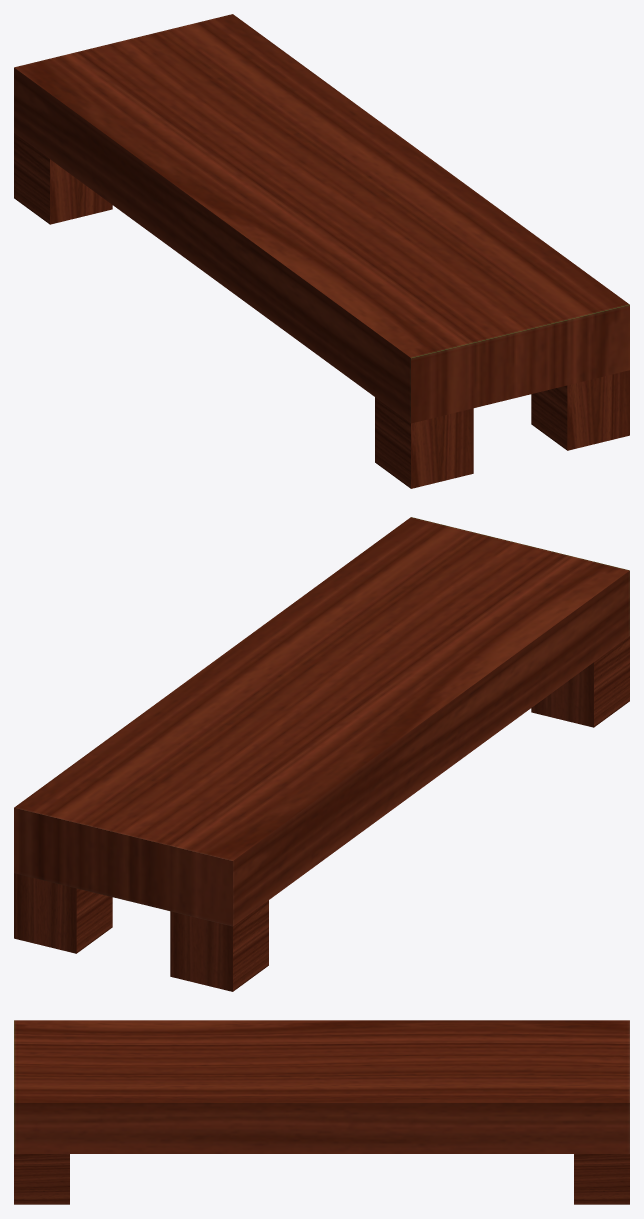
Rendered from tv-table.glb.
3 views of the same model, one above another, from view 1: azimuth 30°, elevation 25°; view 2: azimuth 150°, elevation 25°; view 3: azimuth 270°, elevation 25° (orthographic). The views are drawn at different scales.
Visible parts, largest first — view 1: Tabletop_Small_lambert3_0, Tabletop_Leg_Thick1_lambert3_0, Tabletop_Leg_Thick_lambert3_0, Tabletop_Leg_Thick2_lambert3_0; view 2: Tabletop_Small_lambert3_0, Tabletop_Leg_Thick2_lambert3_0, Tabletop_Leg_Thick3_lambert3_0, Tabletop_Leg_Thick1_lambert3_0; view 3: Tabletop_Small_lambert3_0, Tabletop_Leg_Thick_lambert3_0, Tabletop_Leg_Thick3_lambert3_0.
Part boxes in pixels (x1,y1,x2,y2): Tabletop_Small_lambert3_0: [14, 14, 629, 423]; Tabletop_Leg_Thick1_lambert3_0: [375, 397, 473, 488]; Tabletop_Leg_Thick_lambert3_0: [531, 370, 629, 450]; Tabletop_Leg_Thick2_lambert3_0: [14, 133, 112, 224]; Tabletop_Small_lambert3_0: [14, 517, 629, 926]; Tabletop_Leg_Thick2_lambert3_0: [170, 900, 268, 991]; Tabletop_Leg_Thick3_lambert3_0: [14, 873, 112, 953]; Tabletop_Leg_Thick1_lambert3_0: [531, 636, 629, 727]; Tabletop_Small_lambert3_0: [14, 1020, 629, 1153]; Tabletop_Leg_Thick_lambert3_0: [14, 1154, 69, 1204]; Tabletop_Leg_Thick3_lambert3_0: [574, 1154, 629, 1204].
Size of the model in its own units: 0.7 by 0.4 by 2.2.
Materials: 1 (1 with a texture image).
